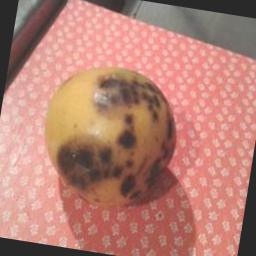Mango Rotten: (16, 50, 202, 223)
